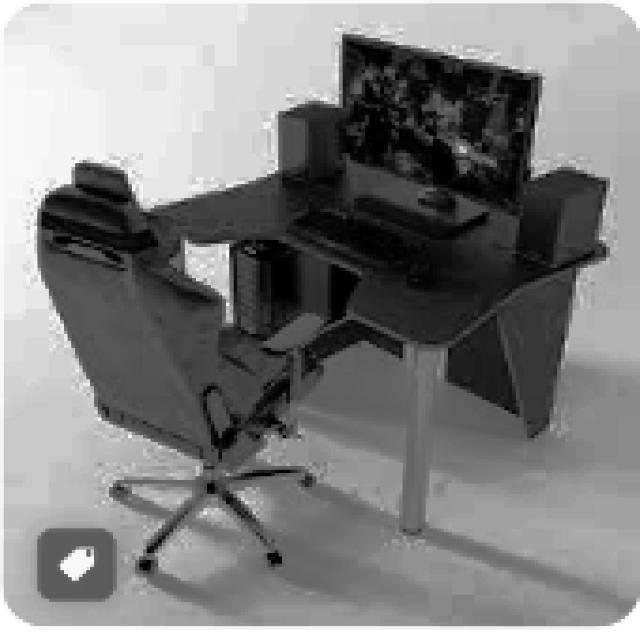book: (34, 160, 327, 574)
table: (143, 153, 606, 532)
